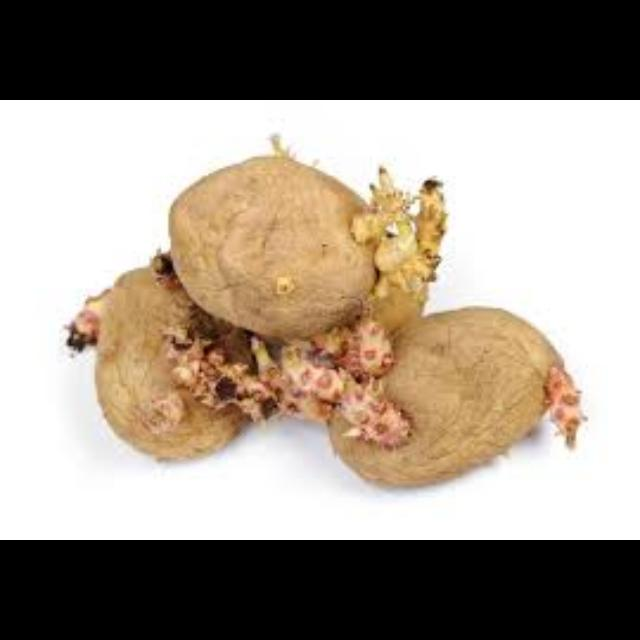Sprouted potato: (165, 145, 462, 357), (319, 298, 587, 490), (70, 250, 284, 470)
